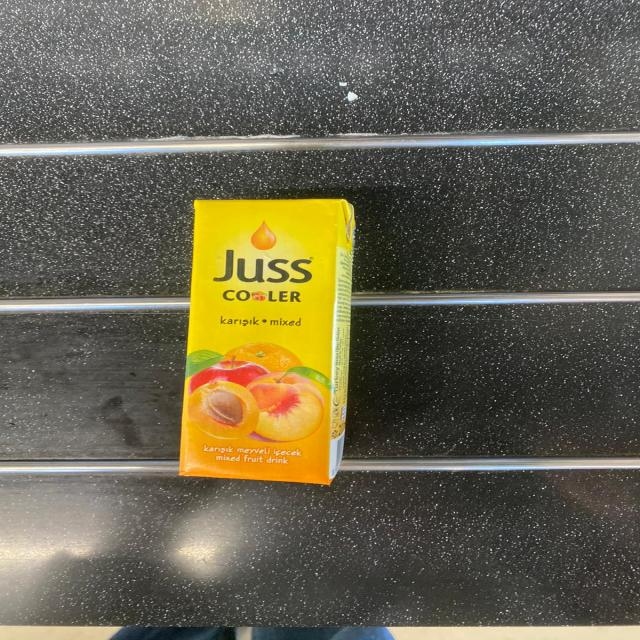yan_yemek: (178, 198, 356, 485)
